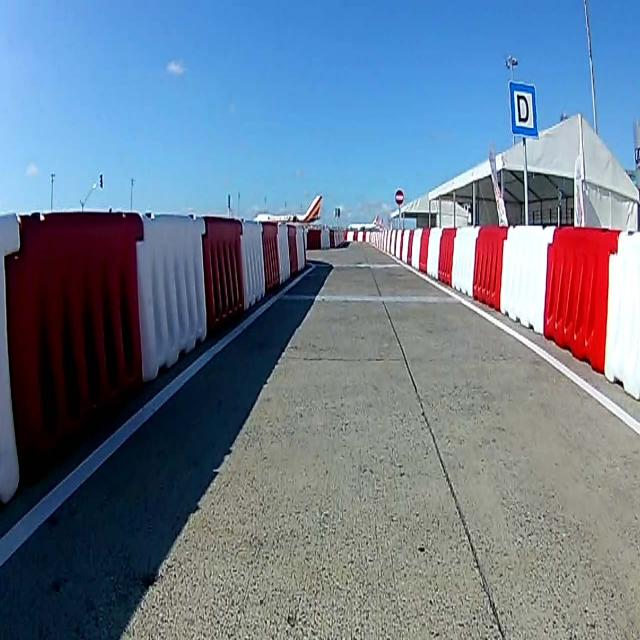durak: (508, 80, 539, 139)
girisyok: (394, 188, 404, 206)
